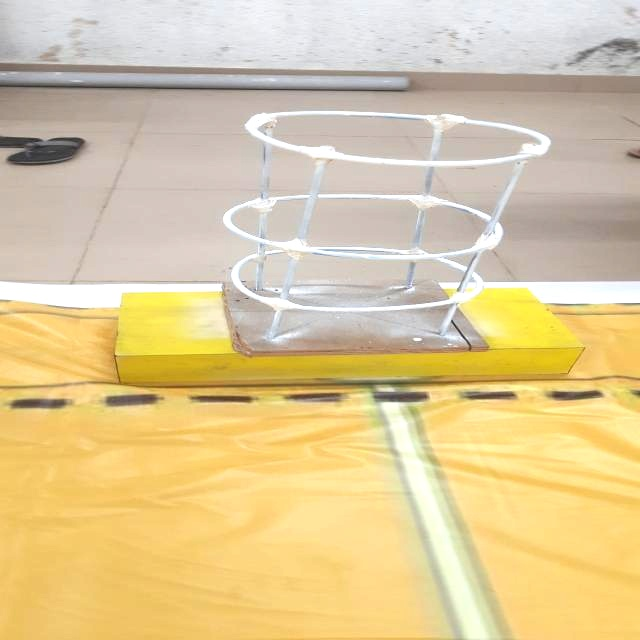silo: (214, 100, 563, 374)
